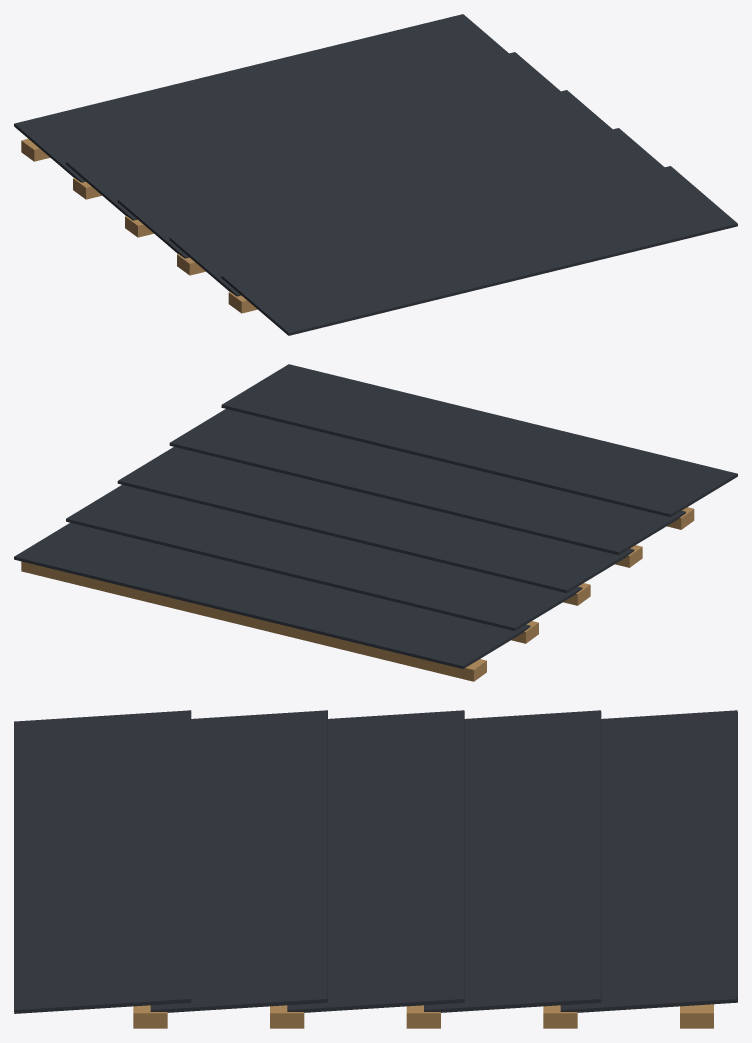
The model's file is roof.covering.slate.glb.
3 views of the same model, one above another, from view 1: azimuth 30°, elevation 25°; view 2: azimuth 150°, elevation 25°; view 3: azimuth 270°, elevation 25° (orthographic). The views are drawn at different scales.
Parts seen in each view (by area): view 1: main__slate, main__softwood; view 2: main__slate, main__softwood; view 3: main__slate, main__softwood.
Part boxes in pixels (x1,y1,x2,y2): main__slate: (14, 14, 737, 335); main__softwood: (21, 138, 257, 313); main__slate: (14, 364, 737, 668); main__softwood: (21, 507, 694, 681); main__slate: (14, 710, 737, 1013); main__softwood: (133, 1004, 713, 1028).
Bounding box in the file's own units: 1.01 × 0.0461 × 1.06.
